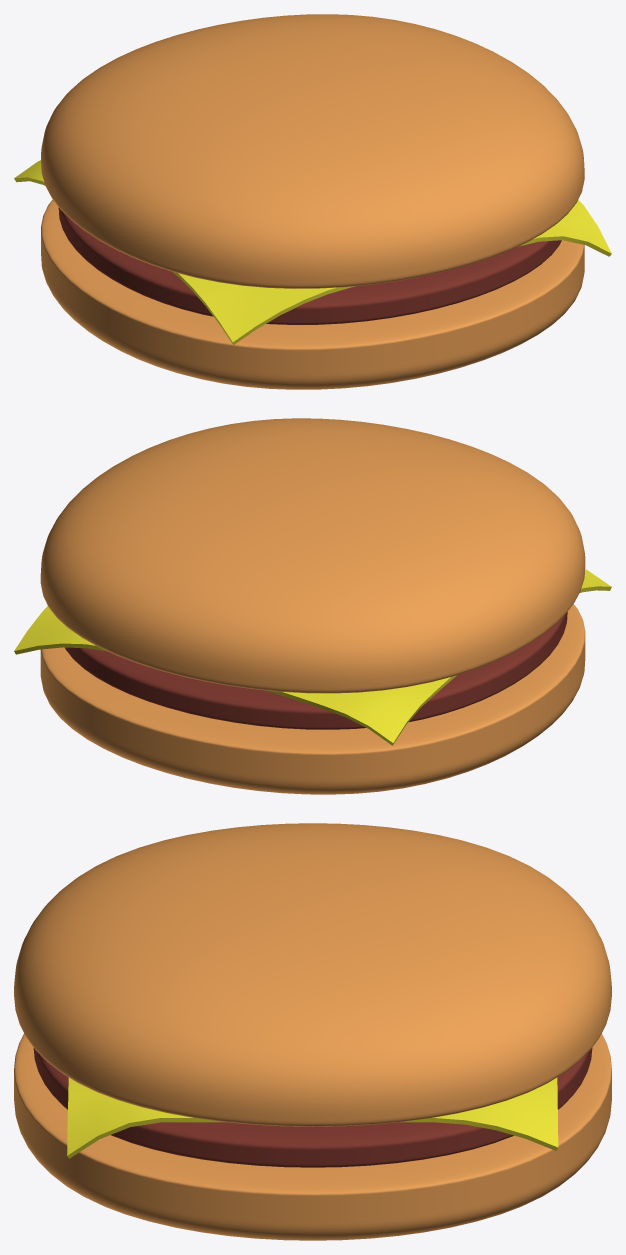
Rendered from hamburger.glb.
3 views of the same model, one above another, from view 1: azimuth 30°, elevation 25°; view 2: azimuth 150°, elevation 25°; view 3: azimuth 270°, elevation 25° (orthographic). The views are drawn at different scales.
Visible parts, largest first — view 1: Cube.002, Cube, Cube.001, Plane; view 2: Cube.002, Cube, Cube.001, Plane; view 3: Cube.002, Cube, Cube.001, Plane.
Part boxes in pixels (left/top/right/bottom): Cube.002: left=41, top=14, right=584, bottom=288; Cube: left=41, top=199, right=584, bottom=389; Cube.001: left=58, top=207, right=561, bottom=324; Plane: left=14, top=160, right=611, bottom=344; Cube.002: left=40, top=418, right=585, bottom=693; Cube: left=40, top=604, right=585, bottom=794; Cube.001: left=65, top=612, right=567, bottom=729; Plane: left=14, top=569, right=611, bottom=745; Cube.002: left=14, top=823, right=611, bottom=1126; Cube: left=14, top=1033, right=611, bottom=1240; Cube.001: left=33, top=1048, right=592, bottom=1167; Plane: left=67, top=1077, right=558, bottom=1158.
Bounding box in the file's own units: 9.16 × 4.21 × 9.16.
